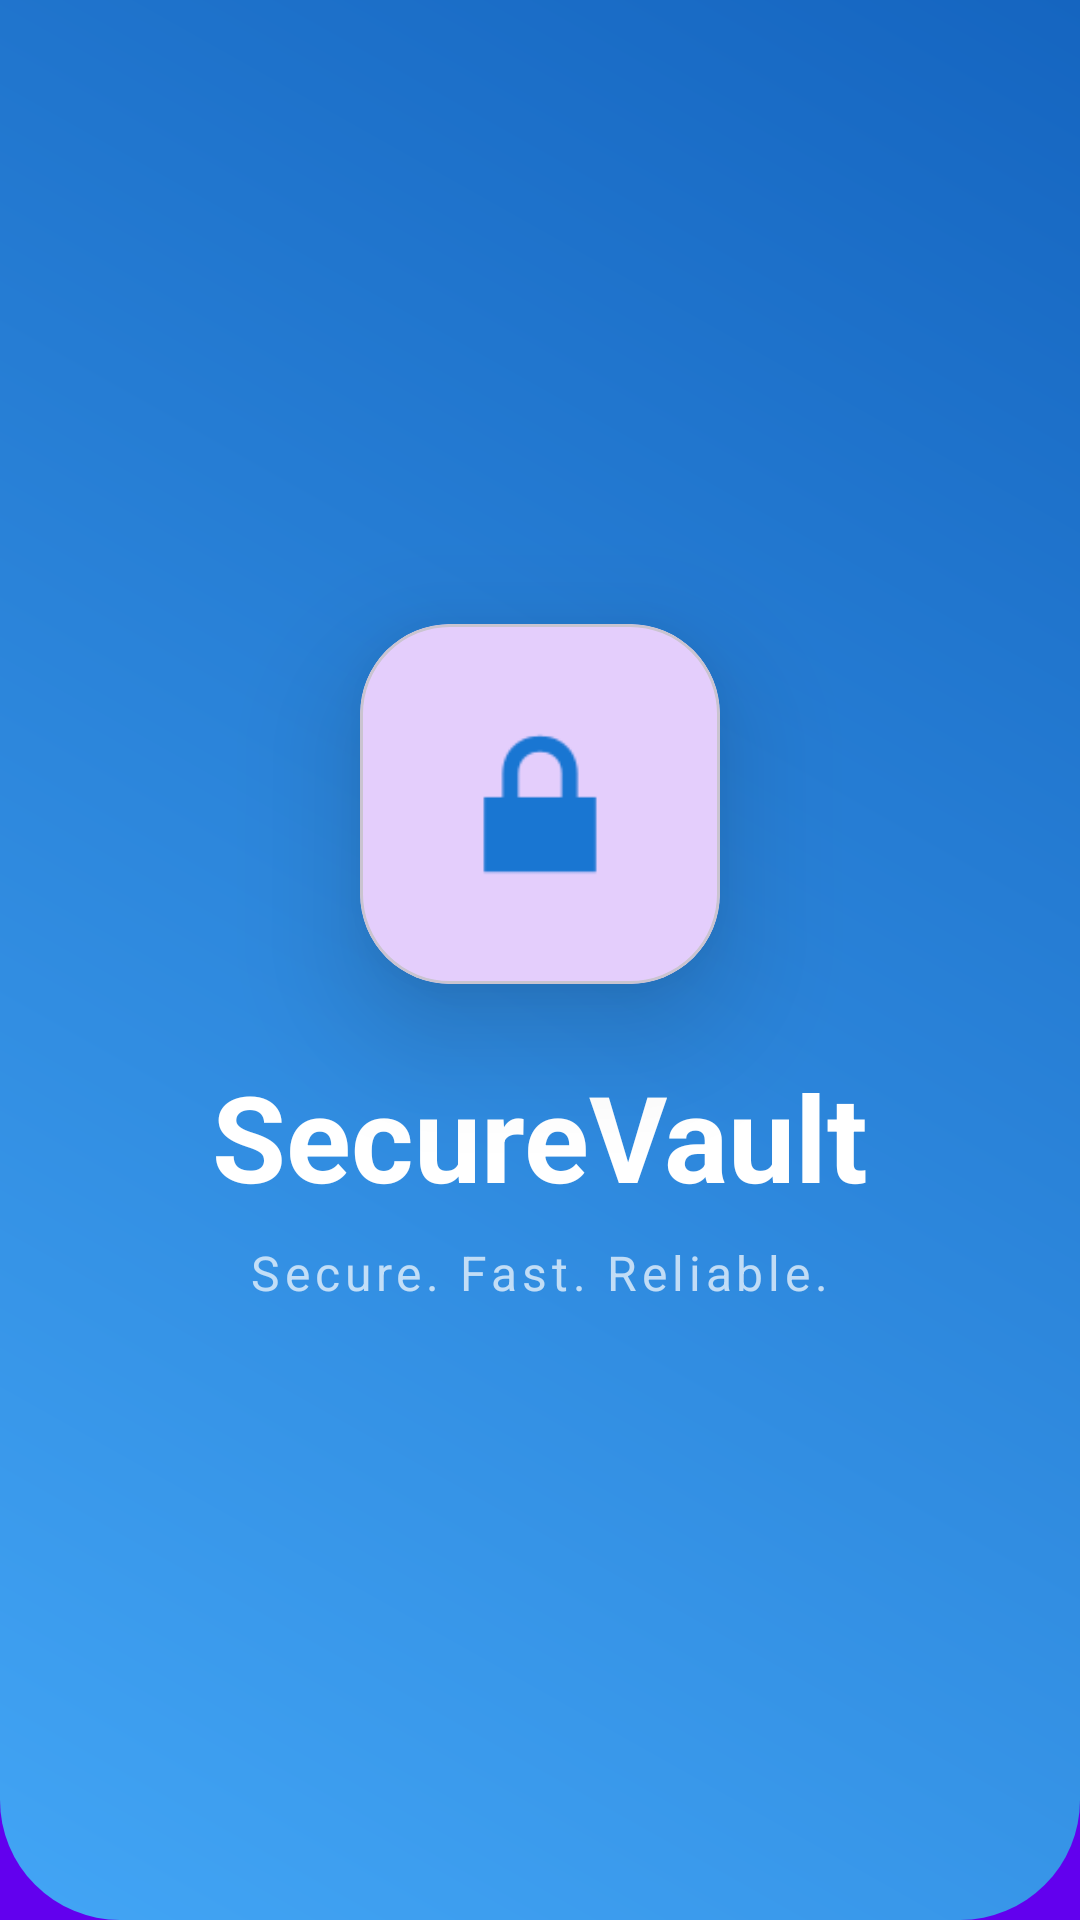

Named icons in this screenshot (1080 × 1920) and their centers, (x=x, y=y):
lock: (x=540, y=804)
